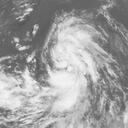cyclone: (47, 24, 88, 71)
